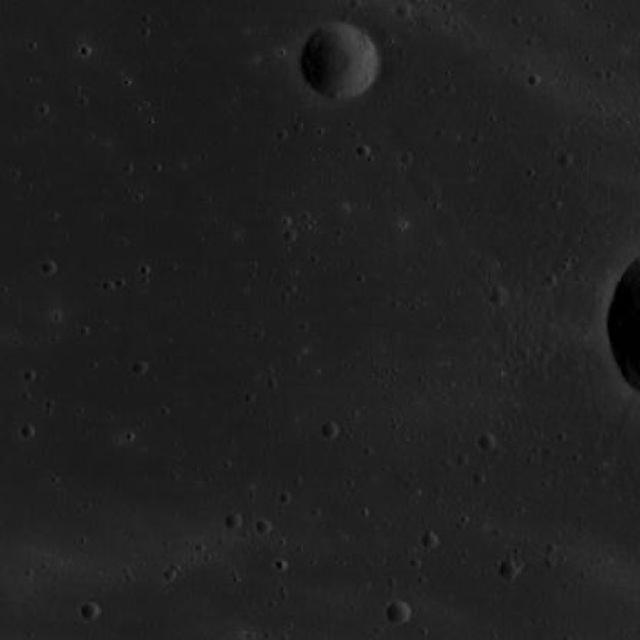crater: (302, 23, 380, 100), (498, 560, 520, 582), (390, 602, 412, 624), (478, 435, 497, 453), (490, 288, 508, 306), (82, 604, 100, 621), (227, 514, 244, 531), (323, 423, 340, 440), (424, 533, 441, 549), (398, 3, 414, 19)
